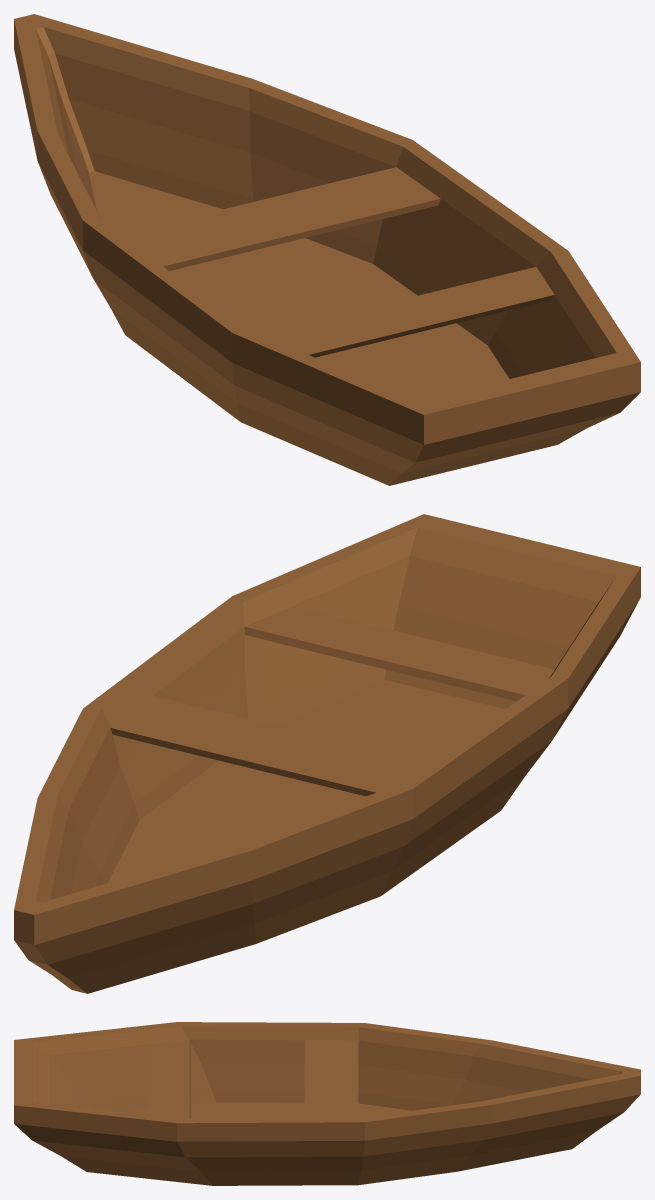
Rendered from boat.fbx.
3 renders of one model, top to bottom at view 1: azimuth 30°, elevation 25°; view 2: azimuth 150°, elevation 25°; view 3: azimuth 270°, elevation 25°, orthographic. The views are drawn at different scales.
Parts seen in each view (by area): view 1: Plane; view 2: Plane; view 3: Plane.
Boxes of the visible parts, x1=… form: Plane: x1=14, y1=14, x2=640, y2=485; Plane: x1=14, y1=514, x2=640, y2=993; Plane: x1=14, y1=1022, x2=640, y2=1185.
Size of the model in its own units: 194 by 66.2 by 508.
